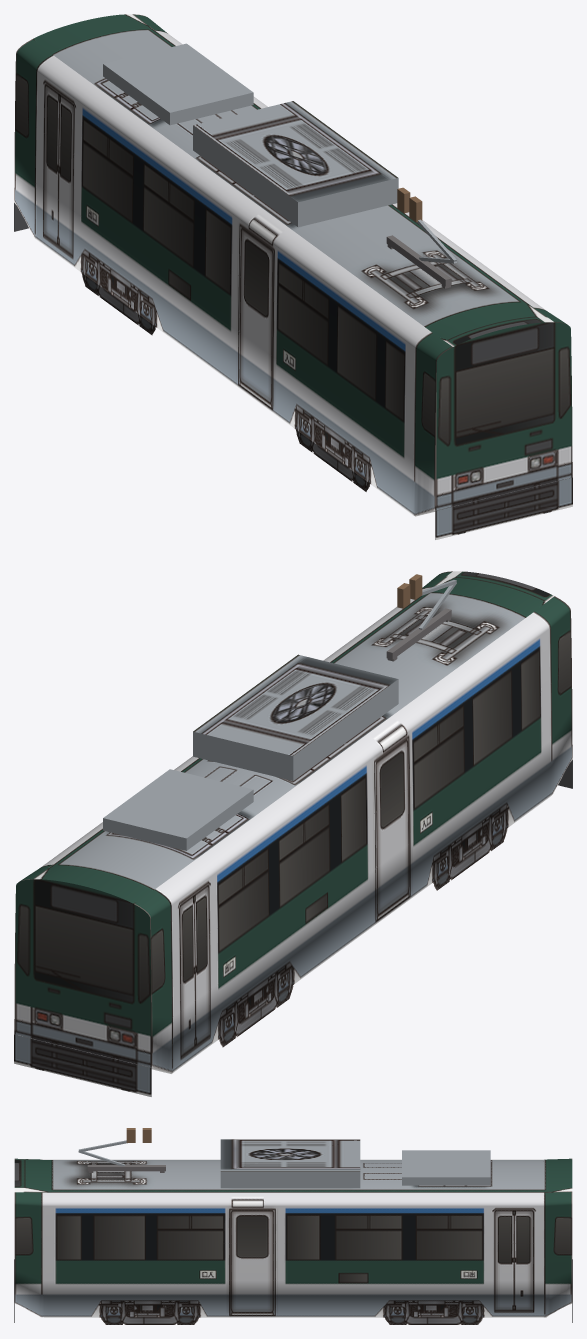
The model's file is car1.glb.
3 views of the same model, one above another, from view 1: azimuth 30°, elevation 25°; view 2: azimuth 150°, elevation 25°; view 3: azimuth 270°, elevation 25° (orthographic). The views are drawn at different scales.
Parts seen in each view (by area): view 1: tosaden2000; view 2: tosaden2000; view 3: tosaden2000.
Boxes of the visible parts, x1=… form: tosaden2000: x1=14, y1=14, x2=572, y2=539; tosaden2000: x1=14, y1=571, x2=572, y2=1096; tosaden2000: x1=14, y1=1128, x2=572, y2=1324.
Bounding box in the file's own units: 2.3 × 4.19 × 12.23.
Materials: 10 (9 with a texture image).
